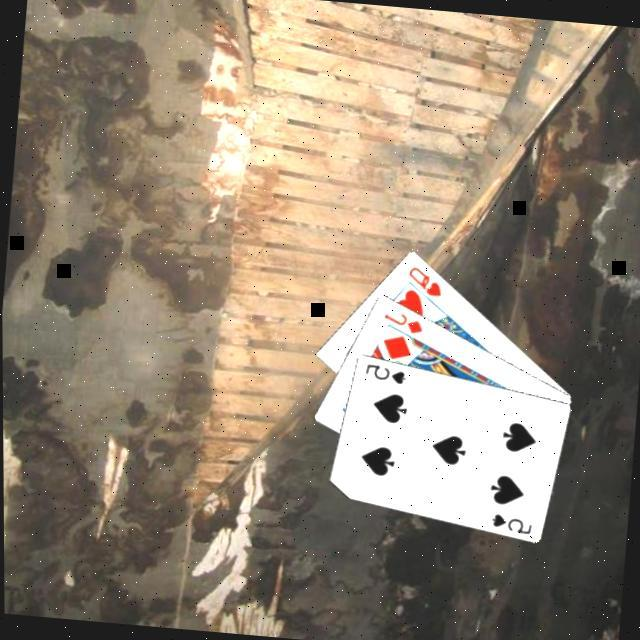5S: (483, 507, 533, 535), (359, 358, 409, 385)
JD: (378, 306, 426, 335)
QH: (402, 259, 445, 297)
